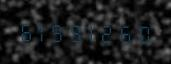nine: (51, 19, 67, 43), (68, 19, 84, 43)
one: (34, 19, 50, 43), (85, 20, 101, 44)
six: (17, 18, 33, 43), (119, 20, 135, 44)
two: (102, 20, 118, 44)
zero: (136, 20, 152, 45)
